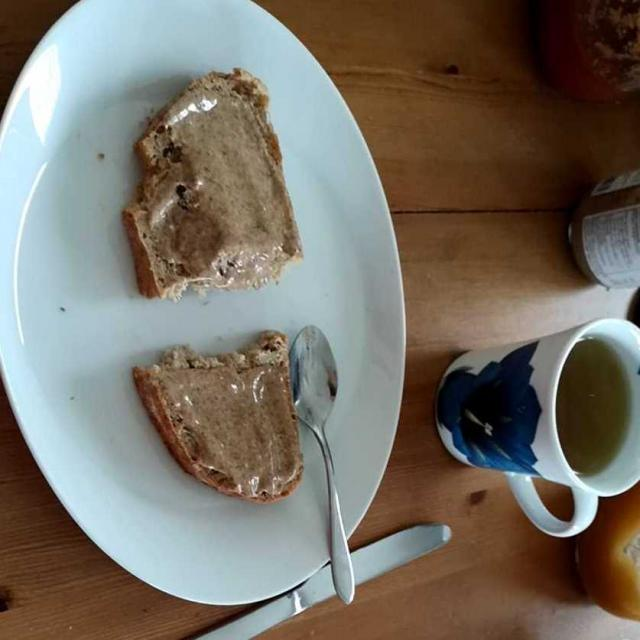bread: (122, 70, 306, 525)
butter: (130, 72, 306, 499)
tea: (560, 344, 634, 478)
